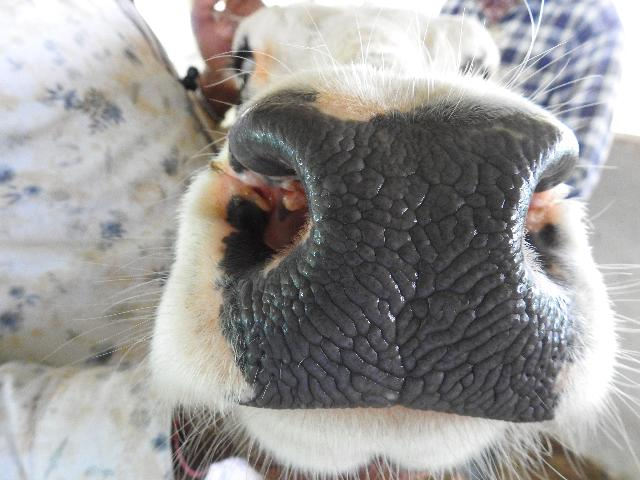Muzzle: (217, 104, 571, 431)
